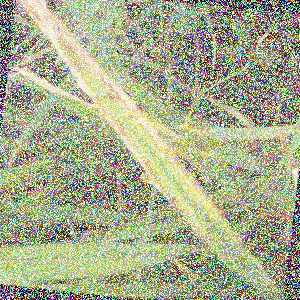Leaf_Blast: (117, 140, 179, 194)
